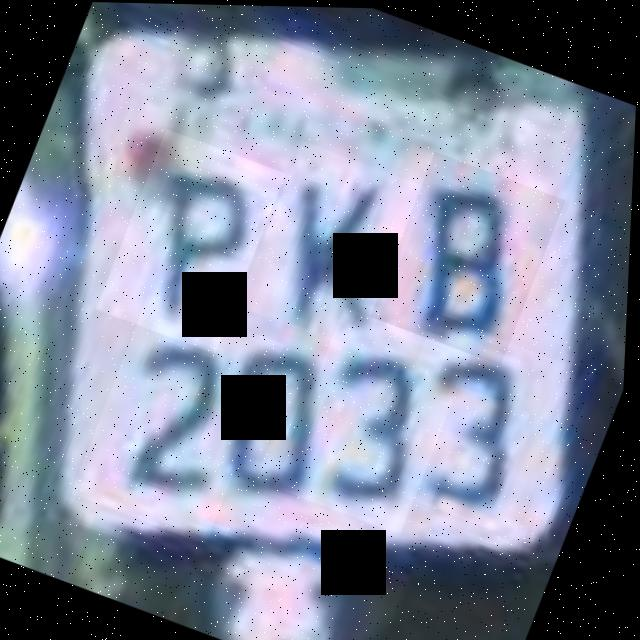0: (187, 309, 380, 529)
2: (73, 292, 288, 544)
3: (371, 312, 585, 536), (276, 304, 475, 533)
B: (371, 148, 568, 364)
K: (238, 138, 432, 353)
P: (97, 127, 288, 353)
